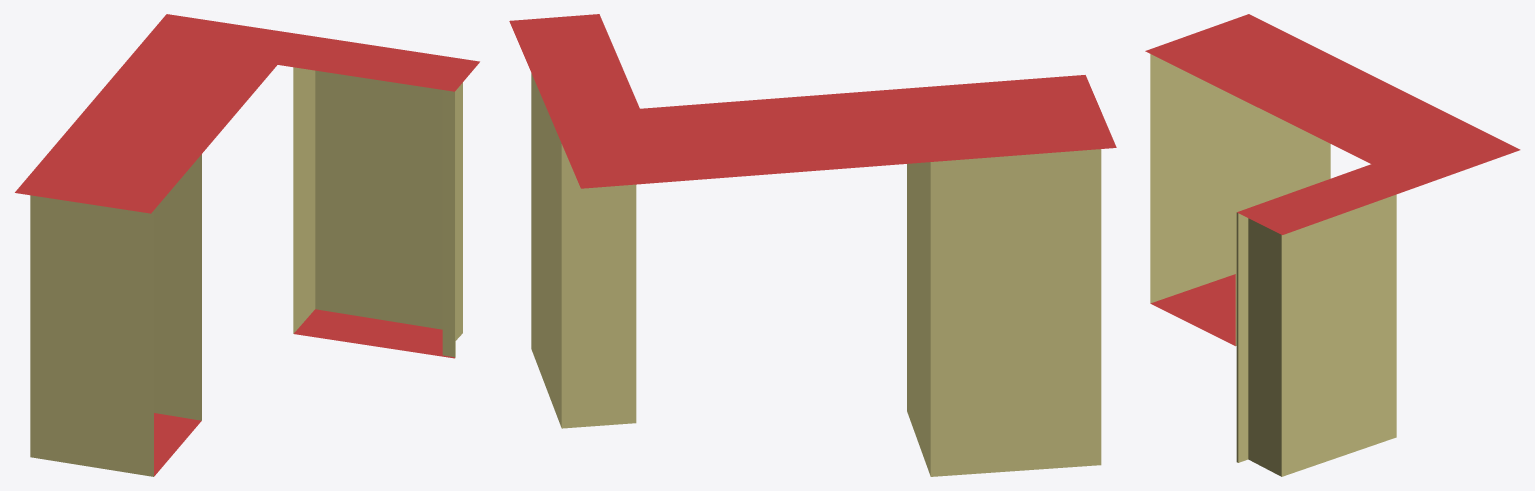
The picture shows the model from 3 angles, left to right: view 1: azimuth 30°, elevation 25°; view 2: azimuth 150°, elevation 25°; view 3: azimuth 270°, elevation 25°; orthographic projection. The views are drawn at different scales.
Size of the model in its own units: 11.53 by 8.28 by 6.07.
